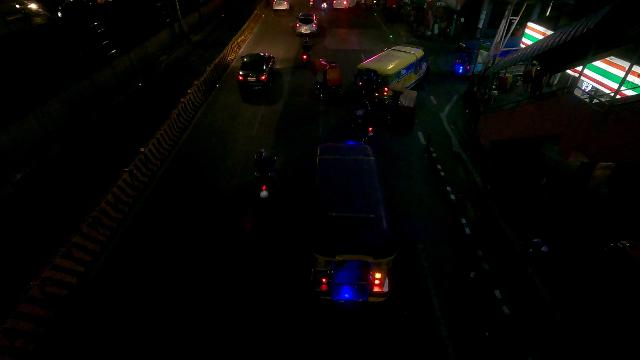car: (237, 52, 275, 90), (296, 12, 317, 34), (332, 0, 355, 9), (272, 0, 290, 11)
jeepney: (312, 142, 395, 302), (357, 45, 429, 99)
motorcycle: (253, 149, 277, 197), (300, 37, 313, 65)
